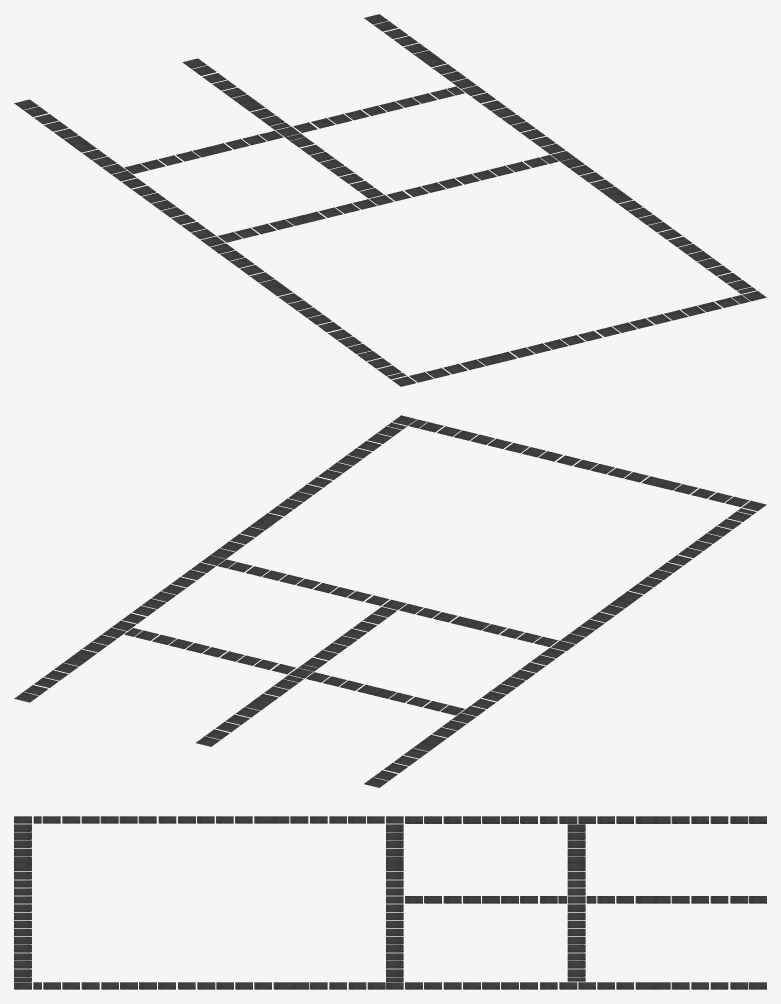
Rendered from camino.obj.
3 renders of one model, top to bottom at view 1: azimuth 30°, elevation 25°; view 2: azimuth 150°, elevation 25°; view 3: azimuth 270°, elevation 25°, orthographic. The views are drawn at different scales.
Bounding box in the file's own units: 256 × 0.2346 × 470.
